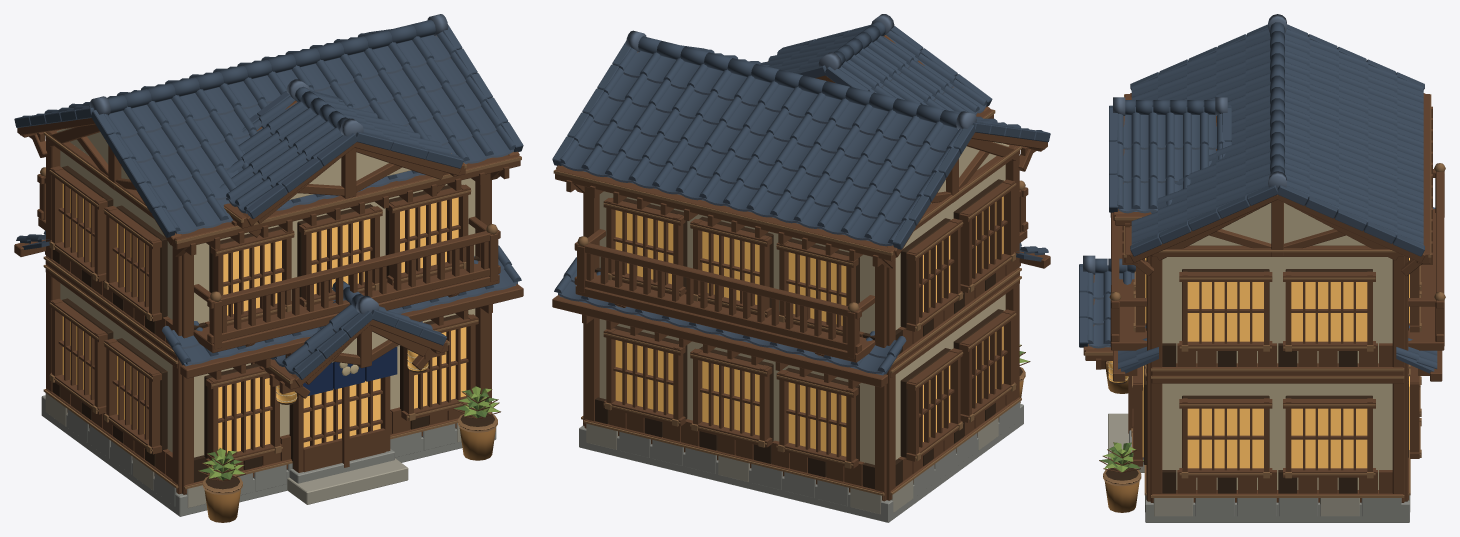
3 renders of one model, left to right at view 1: azimuth 30°, elevation 25°; view 2: azimuth 150°, elevation 25°; view 3: azimuth 270°, elevation 25°, orthographic. The views are drawn at different scales.
Parts seen in each view (by area): view 1: compact_hotel_2_geometry, compact_hotel_2_geometry ceramic; view 2: compact_hotel_2_geometry, compact_hotel_2_geometry ceramic; view 3: compact_hotel_2_geometry, compact_hotel_2_geometry ceramic.
Part boxes in pixels (x1,y1,x2,y2): compact_hotel_2_geometry: [14, 36, 523, 522]; compact_hotel_2_geometry ceramic: [14, 14, 523, 379]; compact_hotel_2_geometry: [552, 35, 1050, 522]; compact_hotel_2_geometry ceramic: [552, 14, 1050, 375]; compact_hotel_2_geometry: [1083, 93, 1445, 522]; compact_hotel_2_geometry ceramic: [1079, 14, 1437, 373].
Size of the model in its own units: 0.99 by 0.9868 by 0.9262.
